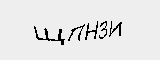І: (85, 22, 93, 35)
З: (29, 25, 50, 43)
К: (113, 21, 131, 39)
С: (96, 21, 114, 35)
Ф: (67, 22, 84, 37)
Я: (50, 24, 67, 43)
